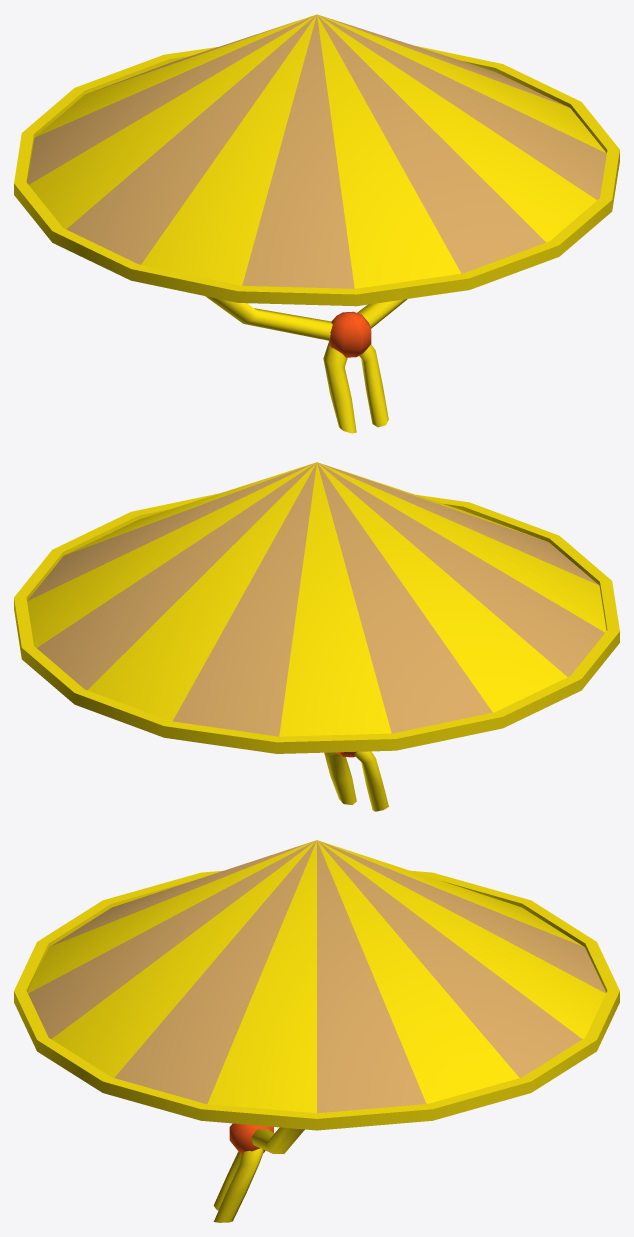
Rendered from Bamboo_chinese_hat.fbx.
3 views of the same model, one above another, from view 1: azimuth 30°, elevation 25°; view 2: azimuth 150°, elevation 25°; view 3: azimuth 270°, elevation 25° (orthographic).
Visible parts, largest first — view 1: Bamboo_chinese_hat.c, Bamboo_chinese_hat; view 2: Bamboo_chinese_hat.c, Bamboo_chinese_hat; view 3: Bamboo_chinese_hat.c, Bamboo_chinese_hat.
Part boxes in pixels (bbox=[...]): Bamboo_chinese_hat.c: bbox=[14, 14, 619, 306]; Bamboo_chinese_hat: bbox=[205, 296, 407, 433]; Bamboo_chinese_hat.c: bbox=[14, 462, 619, 753]; Bamboo_chinese_hat: bbox=[324, 751, 388, 811]; Bamboo_chinese_hat.c: bbox=[14, 840, 619, 1130]; Bamboo_chinese_hat: bbox=[213, 1123, 304, 1222].
Size of the model in its own units: 1.29 by 0.8794 by 1.29.
